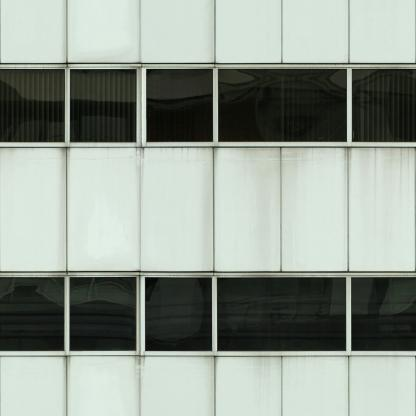Building Outline: (1, 0, 416, 416)
Facade: (0, 0, 416, 416)
Floor: (1, 199, 416, 407), (0, 0, 415, 189)
Floor Slab: (1, 406, 416, 416), (1, 189, 416, 199)
Window: (218, 277, 347, 351), (218, 69, 347, 142), (146, 69, 213, 142), (70, 277, 136, 351), (146, 277, 212, 351), (70, 69, 136, 142), (0, 277, 65, 351), (351, 277, 416, 350), (0, 69, 65, 142)
